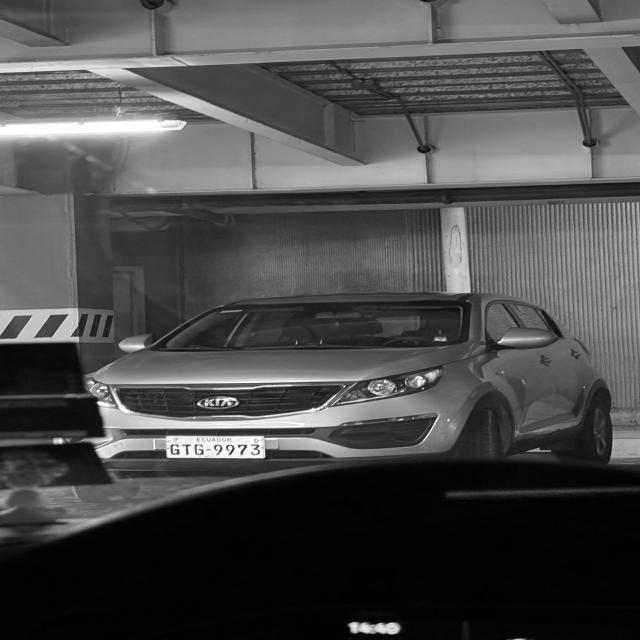Placa: (166, 436, 265, 459)
